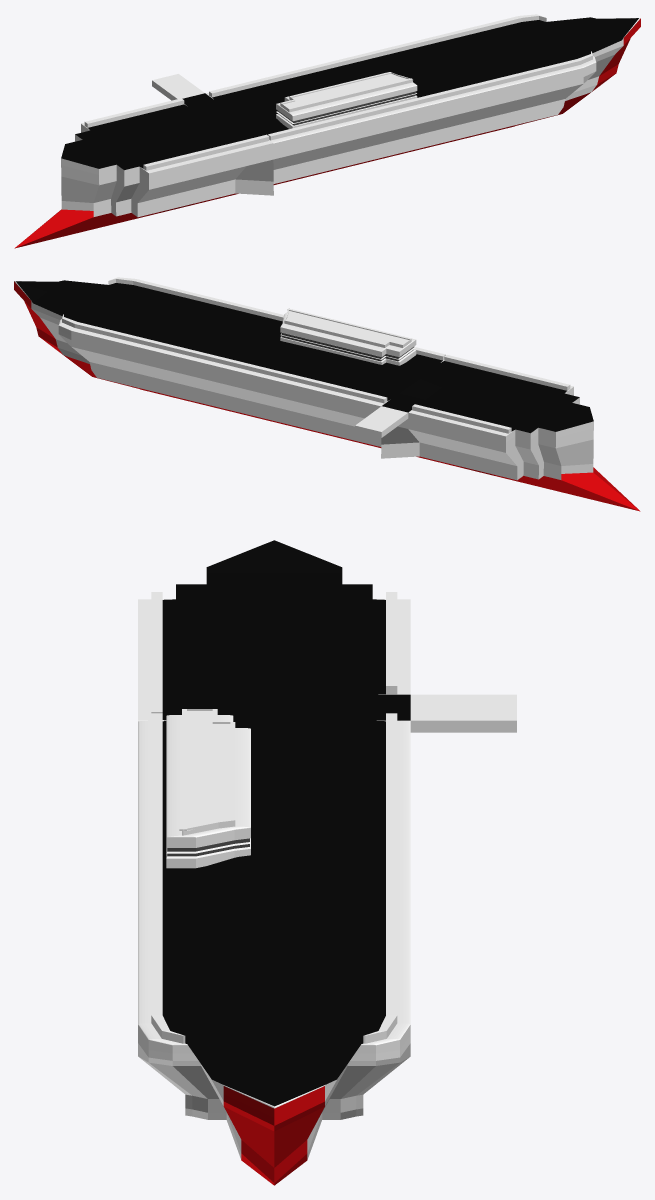
File: aircraftcarriernew.glb
3 views of the same model, one above another, from view 1: azimuth 30°, elevation 25°; view 2: azimuth 150°, elevation 25°; view 3: azimuth 270°, elevation 25° (orthographic). The views are drawn at different scales.
Parts seen in each view (by area): view 1: Cube; view 2: Cube; view 3: Cube.
Part boxes in pixels (bbox=[...]): Cube: bbox=[14, 14, 640, 248]; Cube: bbox=[14, 277, 640, 511]; Cube: bbox=[138, 540, 516, 1185].
Size of the model in its own units: 263 by 37.94 by 68.87.
